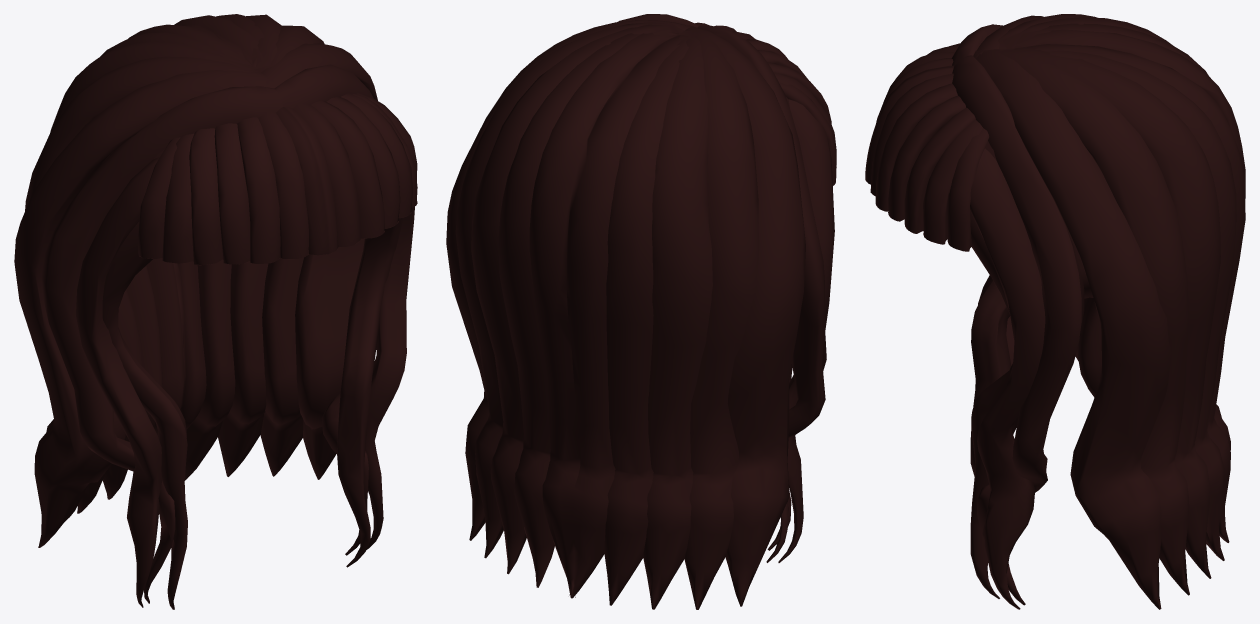
File: hair-1-4124554d.glb
3 views of the same model, side by side, from view 1: azimuth 30°, elevation 25°; view 2: azimuth 150°, elevation 25°; view 3: azimuth 270°, elevation 25° (orthographic). The views are drawn at different scales.
Visible parts, largest first — view 1: hair_1.001; view 2: hair_1.001; view 3: hair_1.001.
Boxes of the visible parts, x1,y1,x2,y2 form: hair_1.001: (14,14,417,609); hair_1.001: (446,14,836,609); hair_1.001: (865,14,1245,609).
Size of the model in its own units: 2.15 by 3.02 by 2.01.
